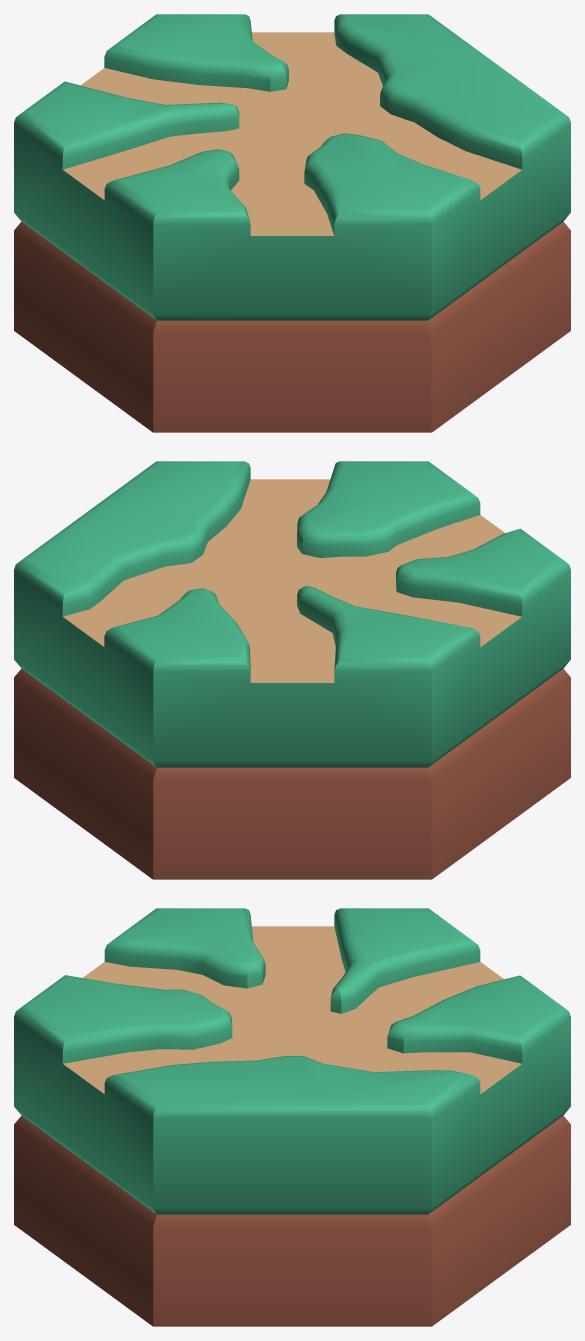
Rendered from hex_forest_roadL_detail.glb.
The picture shows the model from 3 angles, top to bottom: view 1: azimuth 30°, elevation 25°; view 2: azimuth 150°, elevation 25°; view 3: azimuth 270°, elevation 25°; orthographic projection.
Visible parts, largest first — view 1: hex_forest_roadL_detail; view 2: hex_forest_roadL_detail; view 3: hex_forest_roadL_detail.
Part boxes in pixels (bbox=[...]): hex_forest_roadL_detail: bbox=[14, 14, 570, 432]; hex_forest_roadL_detail: bbox=[14, 461, 570, 879]; hex_forest_roadL_detail: bbox=[14, 908, 570, 1326].
Bounding box in the file's own units: 2 × 1 × 2.31.
